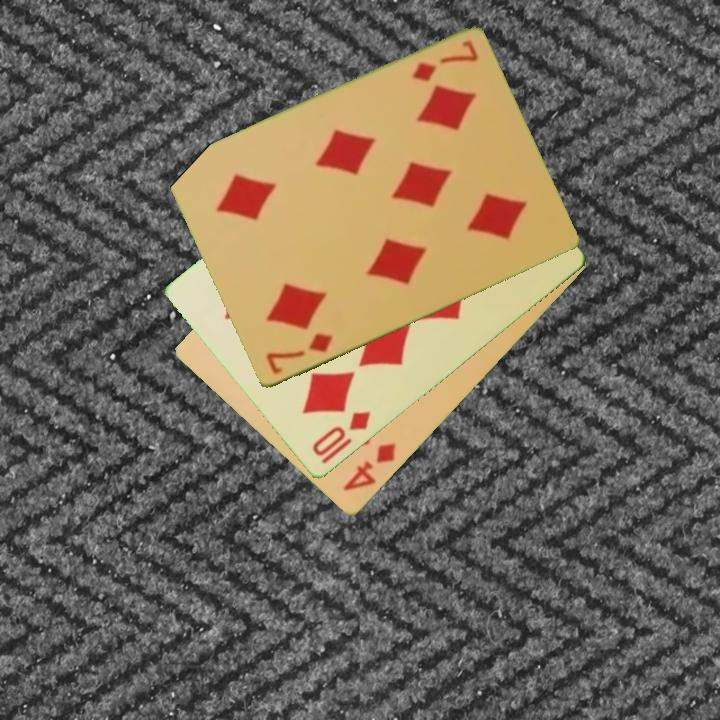10d: (308, 408, 374, 468)
4d: (339, 440, 399, 495)
7d: (408, 36, 481, 85), (262, 330, 336, 378)
